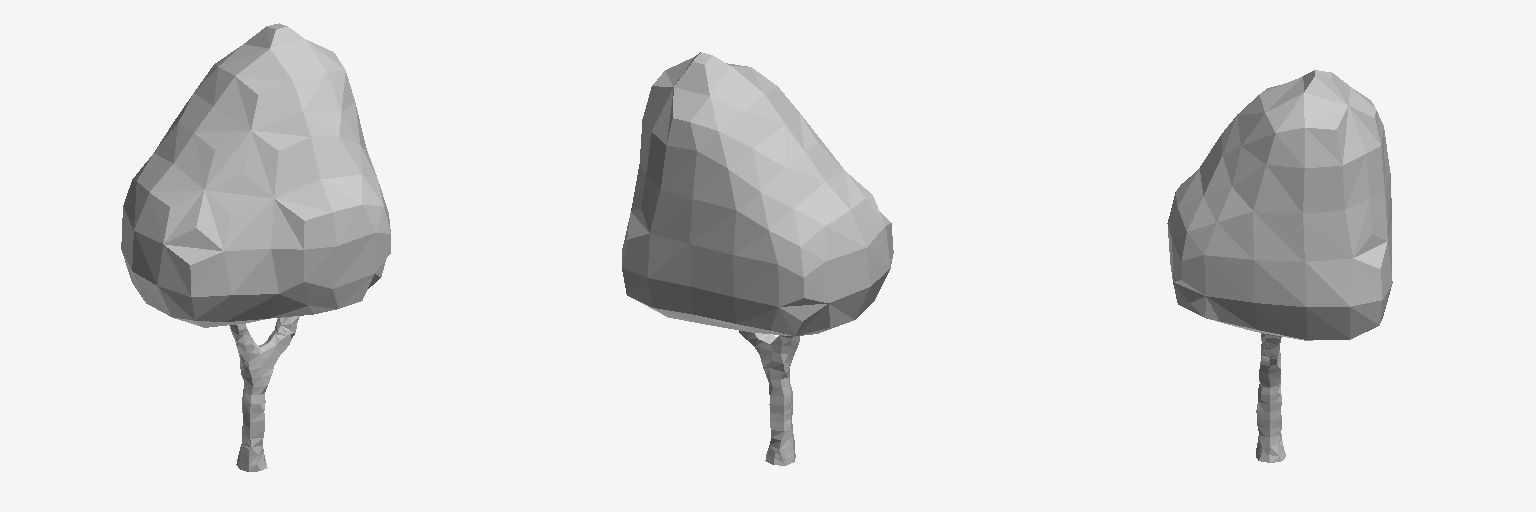
File: tree2.obj
The picture shows the model from 3 angles: view 1: azimuth 30°, elevation 25°; view 2: azimuth 150°, elevation 25°; view 3: azimuth 270°, elevation 25°; orthographic projection.
Parts seen in each view (by area): view 1: Tree4_Plane.005; view 2: Tree4_Plane.005; view 3: Tree4_Plane.005.
Boxes of the visible parts, box(x1,y1,x2,y2) form: Tree4_Plane.005: box(121, 23, 390, 471); Tree4_Plane.005: box(622, 52, 893, 465); Tree4_Plane.005: box(1167, 70, 1392, 462).
Size of the model in its own units: 5.81 by 10.03 by 5.